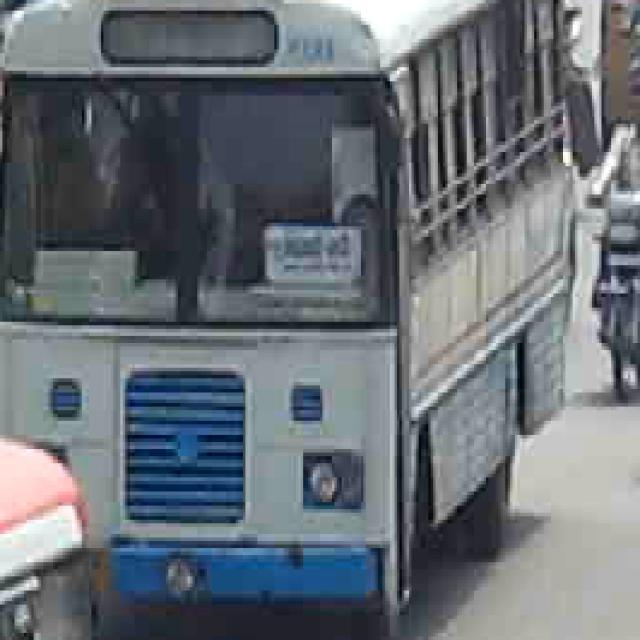bus_front: (1, 3, 574, 640)
two_wheeler_front: (583, 172, 640, 408)
